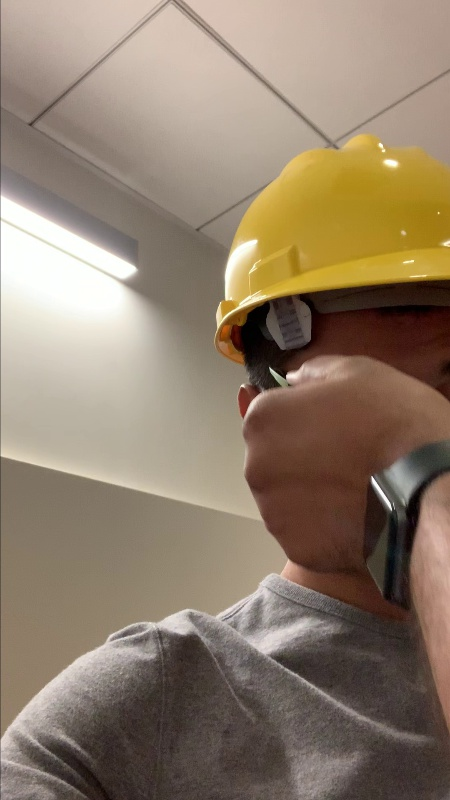helmet: (221, 139, 450, 274)
